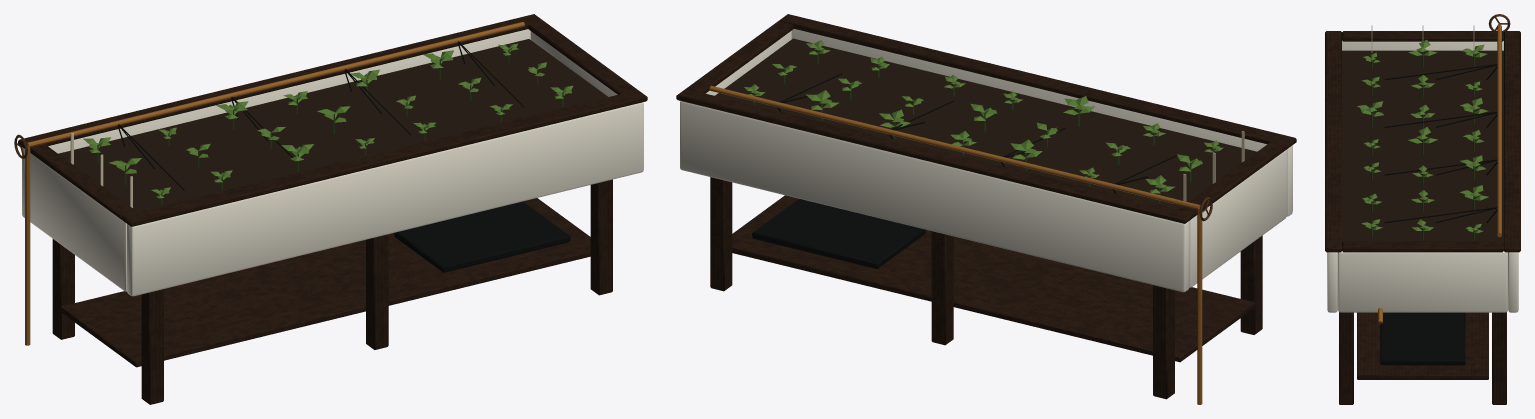
File: conservatory-growing-bed.lod0.glb
3 views of the same model, side by side, from view 1: azimuth 30°, elevation 25°; view 2: azimuth 150°, elevation 25°; view 3: azimuth 270°, elevation 25° (orthographic). The views are drawn at different scales.
Parts seen in each view (by area): view 1: conservatory_growing_bed_Timber • oiled walnut, conservatory_growing_bed_Trim • places palette, conservatory_growing_bed_Ceramic • warm ivory; view 2: conservatory_growing_bed_Timber • oiled walnut, conservatory_growing_bed_Ceramic • warm ivory, conservatory_growing_bed_Trim • places palette; view 3: conservatory_growing_bed_Trim • places palette, conservatory_growing_bed_Timber • oiled walnut, conservatory_growing_bed_Ceramic • warm ivory.
Boxes of the visible parts, bbox=[...] form: conservatory_growing_bed_Timber • oiled walnut: bbox=[18, 14, 647, 404]; conservatory_growing_bed_Trim • places palette: bbox=[14, 22, 607, 345]; conservatory_growing_bed_Ceramic • warm ivory: bbox=[22, 29, 643, 296]; conservatory_growing_bed_Timber • oiled walnut: bbox=[676, 14, 1296, 399]; conservatory_growing_bed_Ceramic • warm ivory: bbox=[680, 29, 1292, 292]; conservatory_growing_bed_Trim • places palette: bbox=[709, 38, 1256, 404]; conservatory_growing_bed_Trim • places palette: bbox=[1342, 14, 1510, 365]; conservatory_growing_bed_Timber • oiled walnut: bbox=[1325, 31, 1520, 404]; conservatory_growing_bed_Ceramic • warm ivory: bbox=[1327, 41, 1518, 312].
Bounding box in the file's own units: 2.52 × 0.96 × 0.92.
3 materials, 2 textured.
